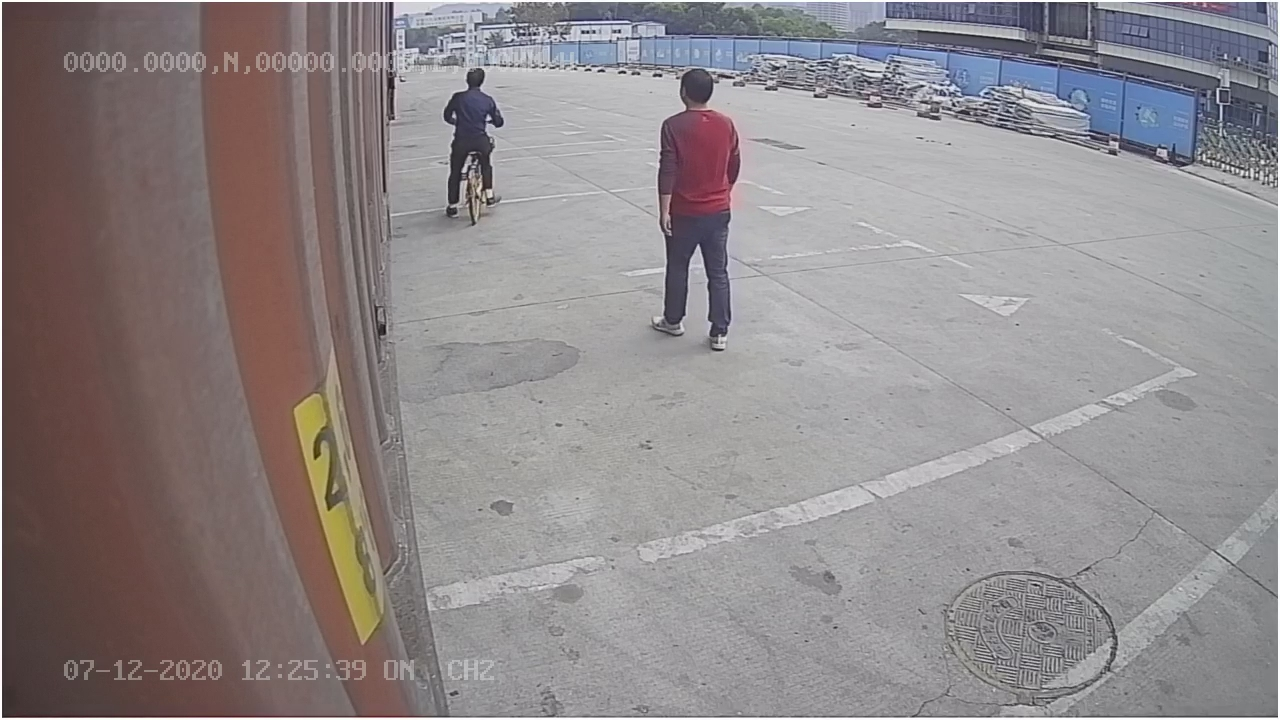person: (644, 60, 748, 354)
